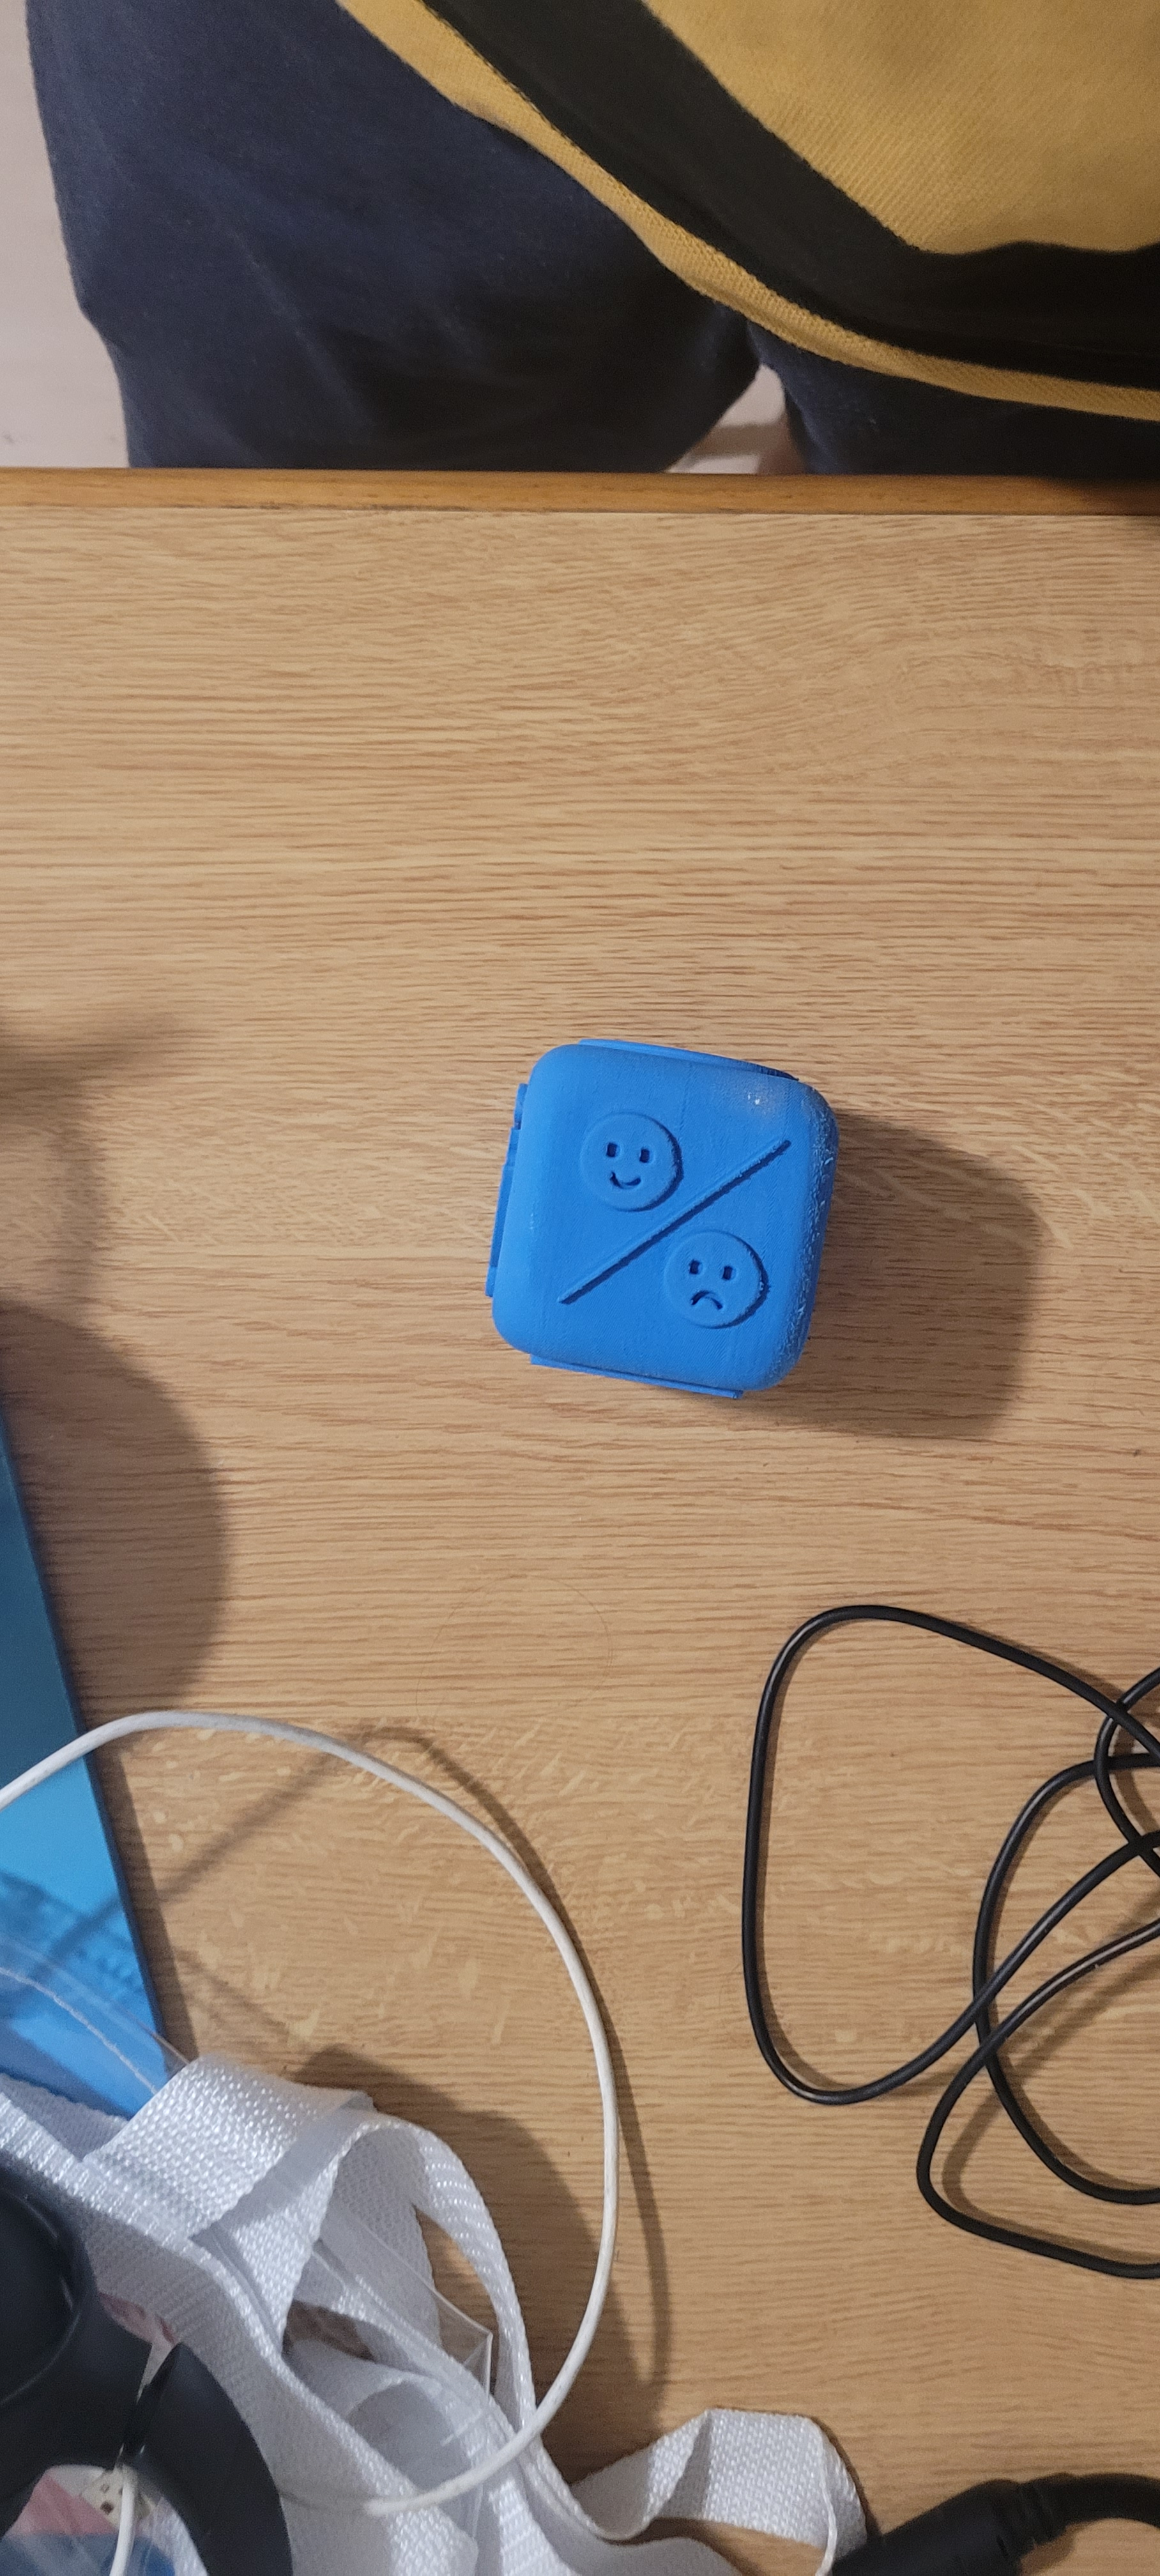Like/Dislike: (519, 974, 815, 1383)
